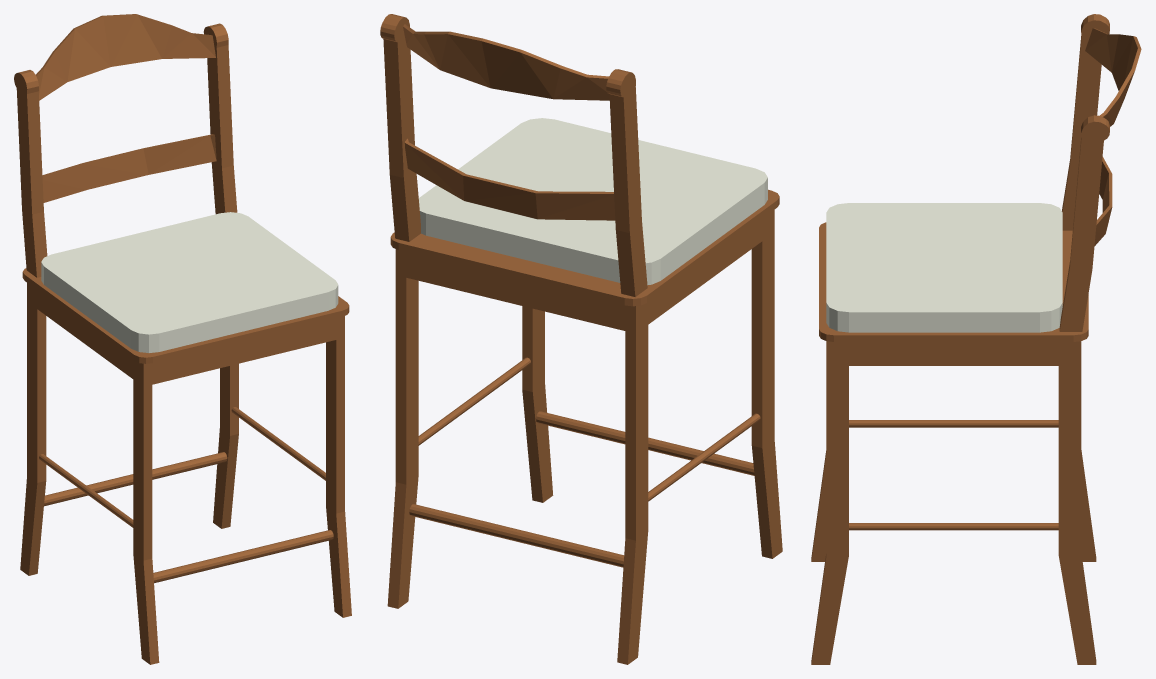
File: chair-by-cmht-oculus-e9FWbvmCO-K.glb
3 views of the same model, side by side, from view 1: azimuth 30°, elevation 25°; view 2: azimuth 150°, elevation 25°; view 3: azimuth 270°, elevation 25° (orthographic). The views are drawn at different scales.
Visible parts, largest first — view 1: Node; view 2: Node; view 3: Node.
Boxes of the visible parts, <box> form: Node: <box>14,14,351,664</box>; Node: <box>380,14,782,664</box>; Node: <box>811,14,1141,664</box>.
Size of the model in its own units: 18 by 41.48 by 22.02.
